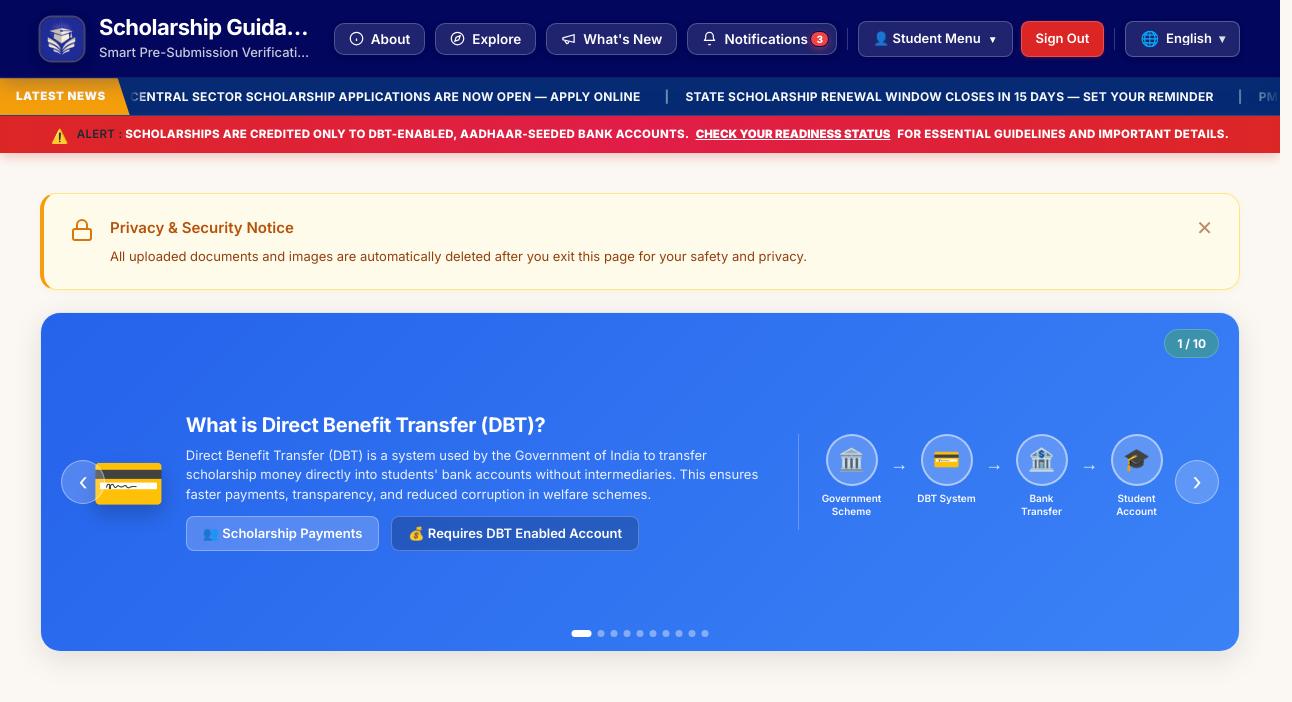
Test: Student Dashboard Header UI & Accessibility Suite › 2. 'Application Status' is rendered instead of generic 'Status'
The image size is (1292, 702).
Click the button with aria-label "student services menu".
click(935, 39)  # box [858,21,1013,57]
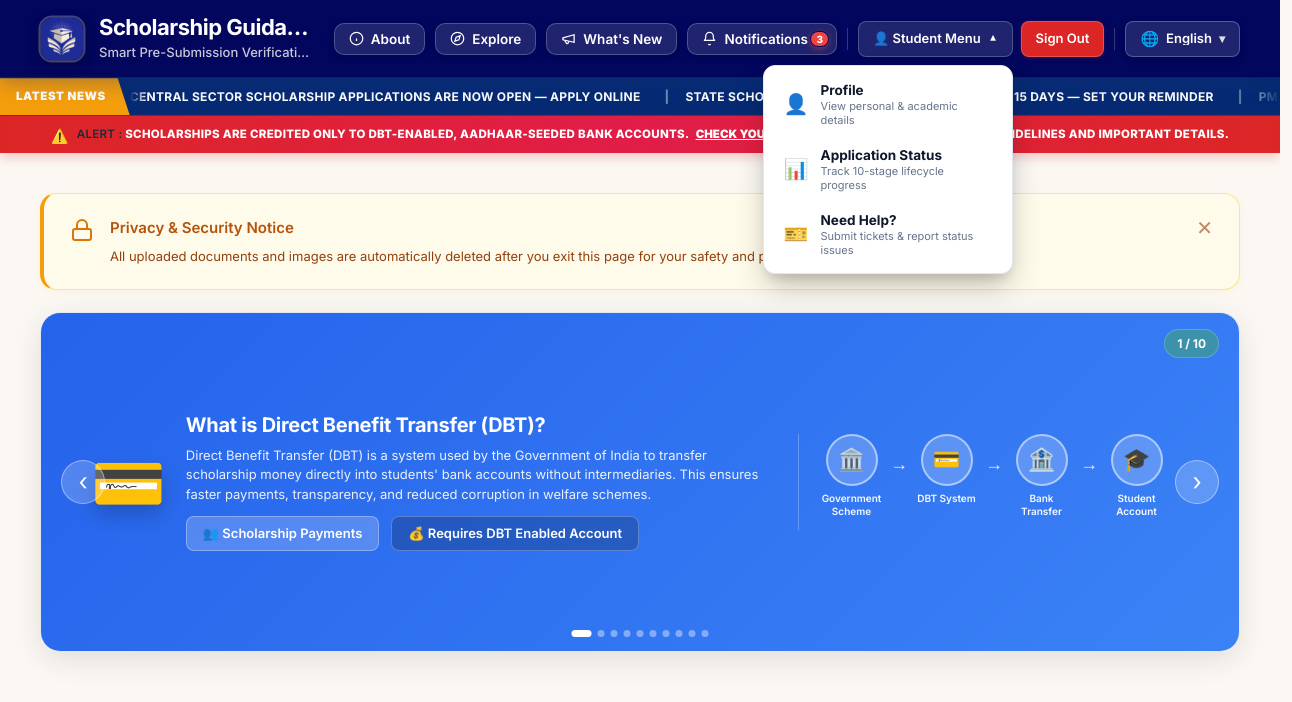
Result: the menu item with aria-label "view application status" shows "Application Status" at [770,137,1006,202]
